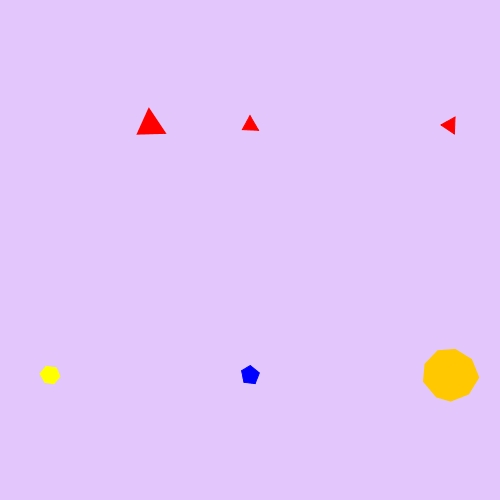hexagon: (35, 362, 65, 388)
nonagon: (419, 346, 481, 405)
pentagon: (236, 361, 264, 389)
triangle: (133, 107, 168, 144), (238, 112, 263, 138), (438, 112, 463, 138)
